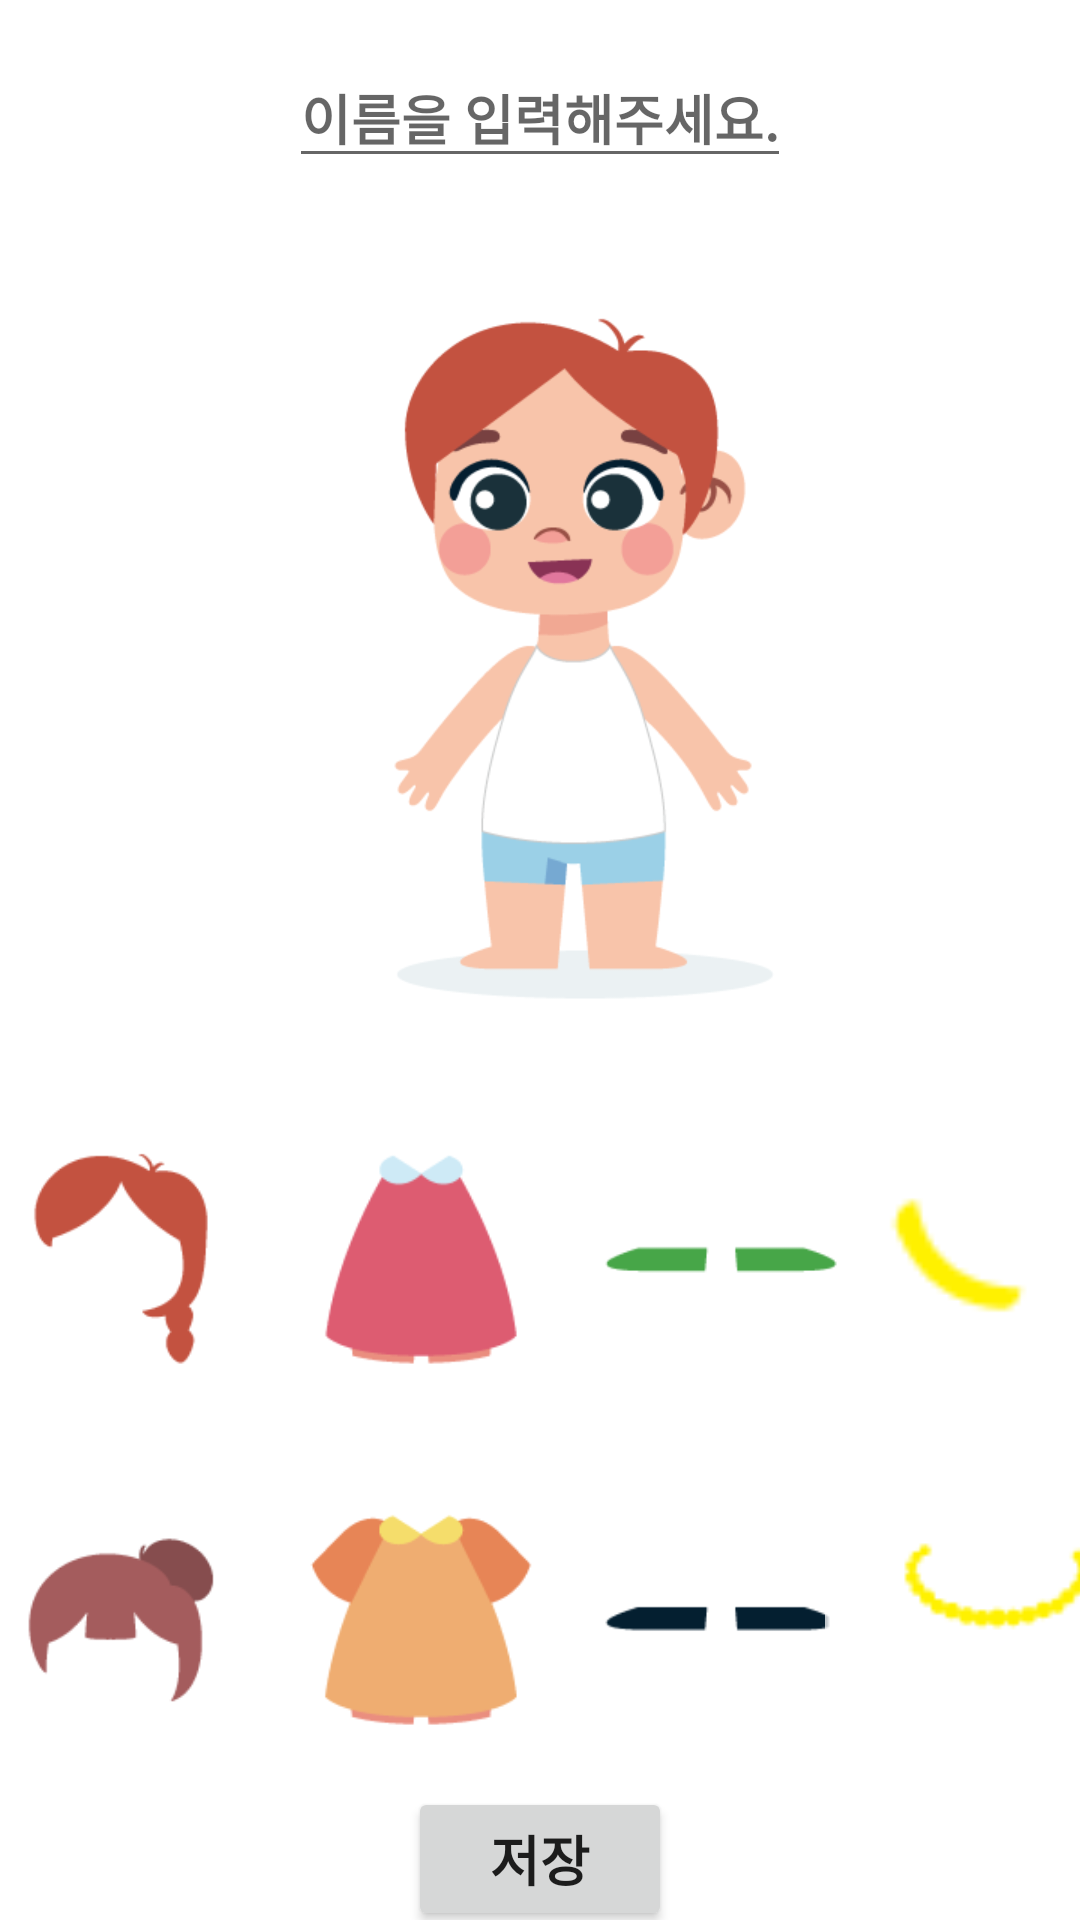

Icon bounding boxes for this 1080 x 1920 phone screenshot, format (x1, y1, x2, y2):
womanclothes change: (325, 1156, 517, 1364), (311, 1515, 531, 1725)
womanhair change: (34, 1154, 208, 1364), (28, 1538, 214, 1702)
